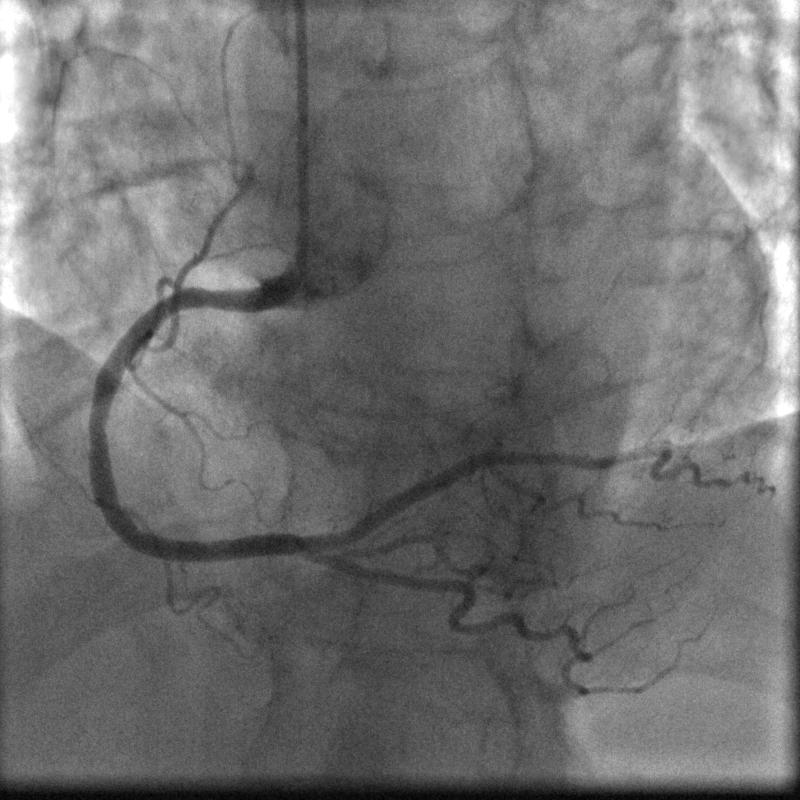Stenosis: (82, 396, 116, 449)
